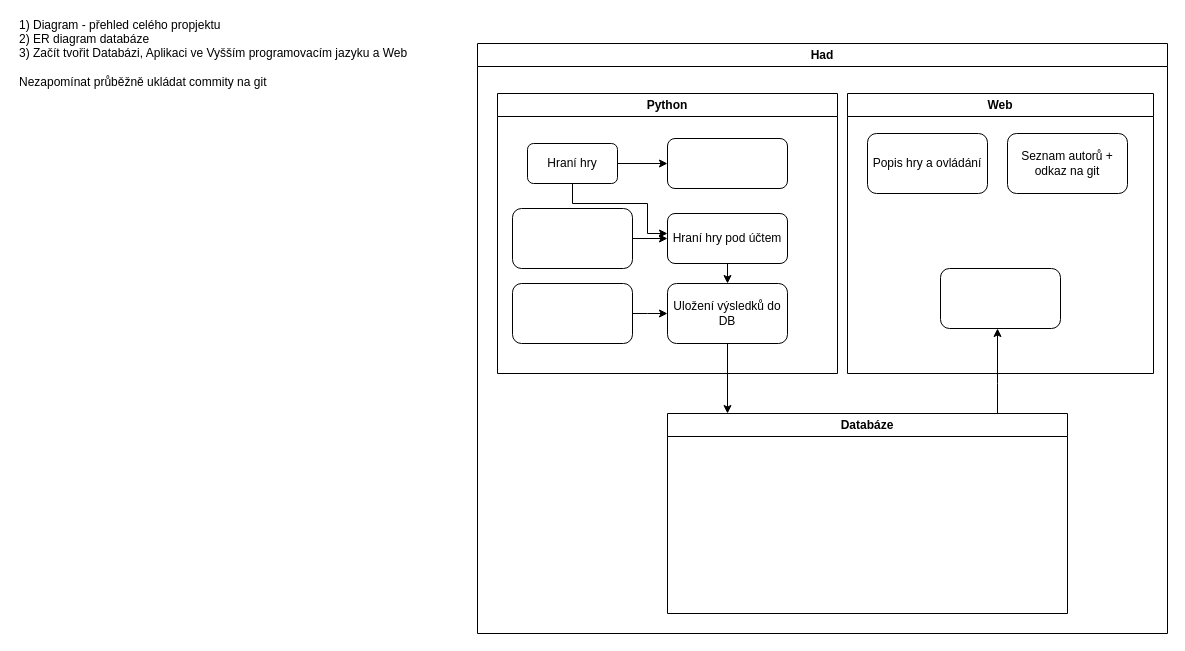
Image size: 1185x651. Some labels were removed from this diagram. The shapes that lost their labels are listed below. From the top down, each one's centre as x and y in pixels, then its label:
the point at 727,163: Hraní hry bez účtu
the point at 572,238: Přihlášení k účtu
the point at 572,313: Připojení k DB
the point at 1000,298: Zobrazení žebříčku (příprava - s pevně zapsanými daty)
